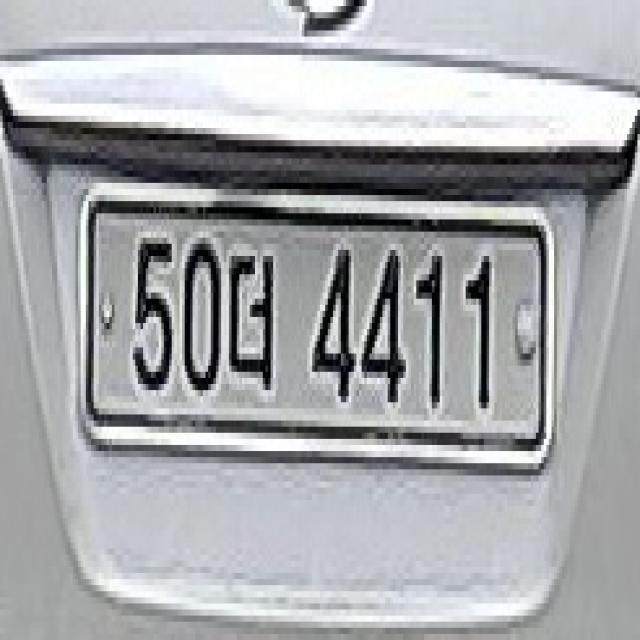0: (182, 232, 222, 398)
1: (464, 250, 499, 415), (416, 243, 444, 415)
4: (358, 247, 412, 417), (310, 243, 358, 412)
5: (130, 225, 177, 397)
deo: (226, 246, 284, 404)
license_plate: (68, 193, 552, 488)
